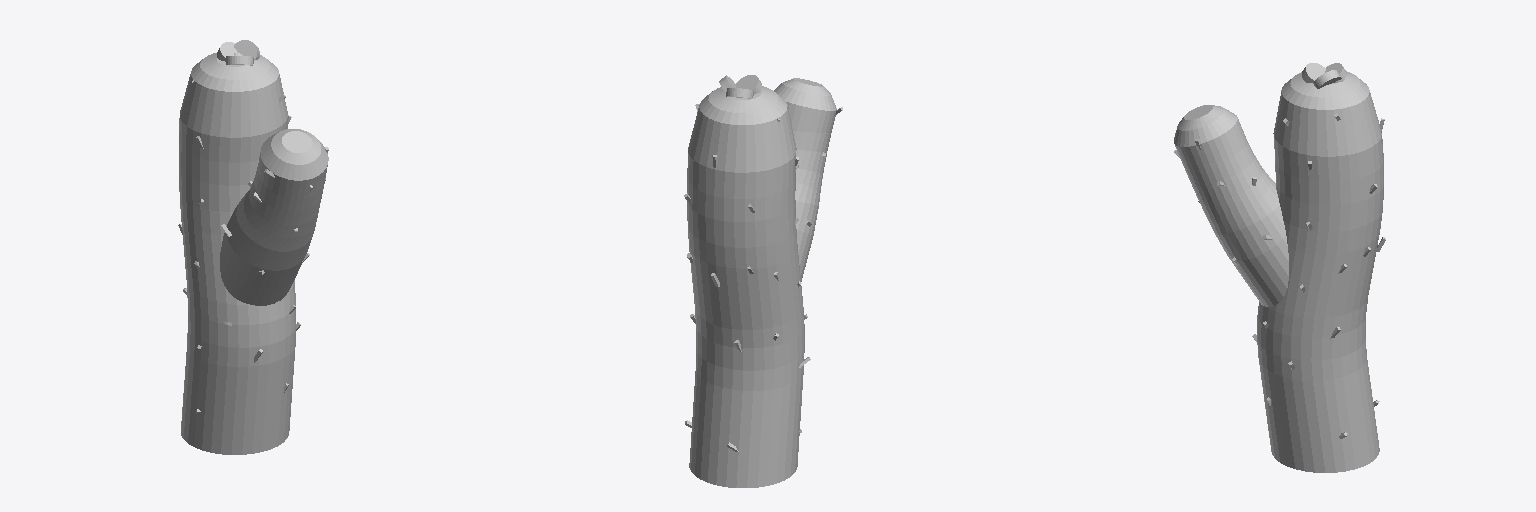
Rendered from Cactus.obj.
3 views of the same model, side by side, from view 1: azimuth 30°, elevation 25°; view 2: azimuth 150°, elevation 25°; view 3: azimuth 270°, elevation 25° (orthographic).
Parts seen in each view (by area): view 1: Cylinder; view 2: Cylinder; view 3: Cylinder.
Part boxes in pixels (x1,y1,x2,y2): Cylinder: (179, 53, 328, 454); Cylinder: (687, 78, 836, 487); Cylinder: (1174, 71, 1383, 472).
Size of the model in its own units: 1.48 by 5.38 by 2.68.